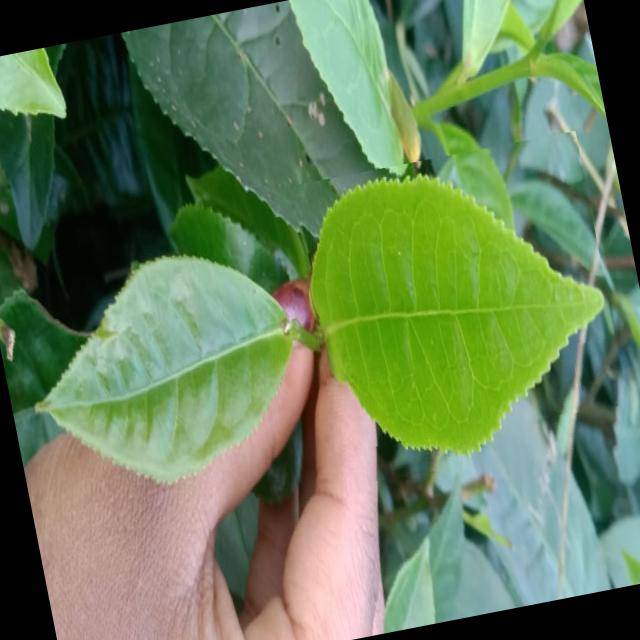Category B 2-4 days: (286, 131, 634, 493)
